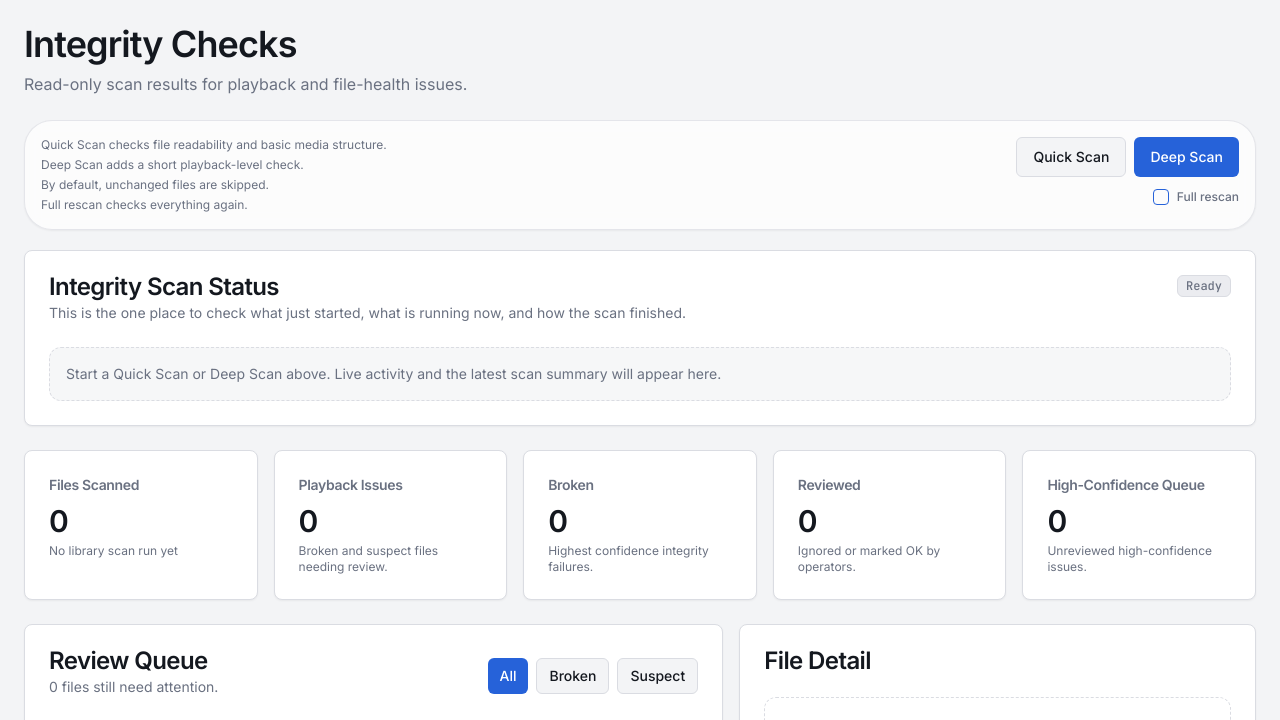
IntegrityPage › shows a visible error when the scan fails
Click the button "Quick Scan". click: (1071, 157)
box: [1016,137,1126,177]
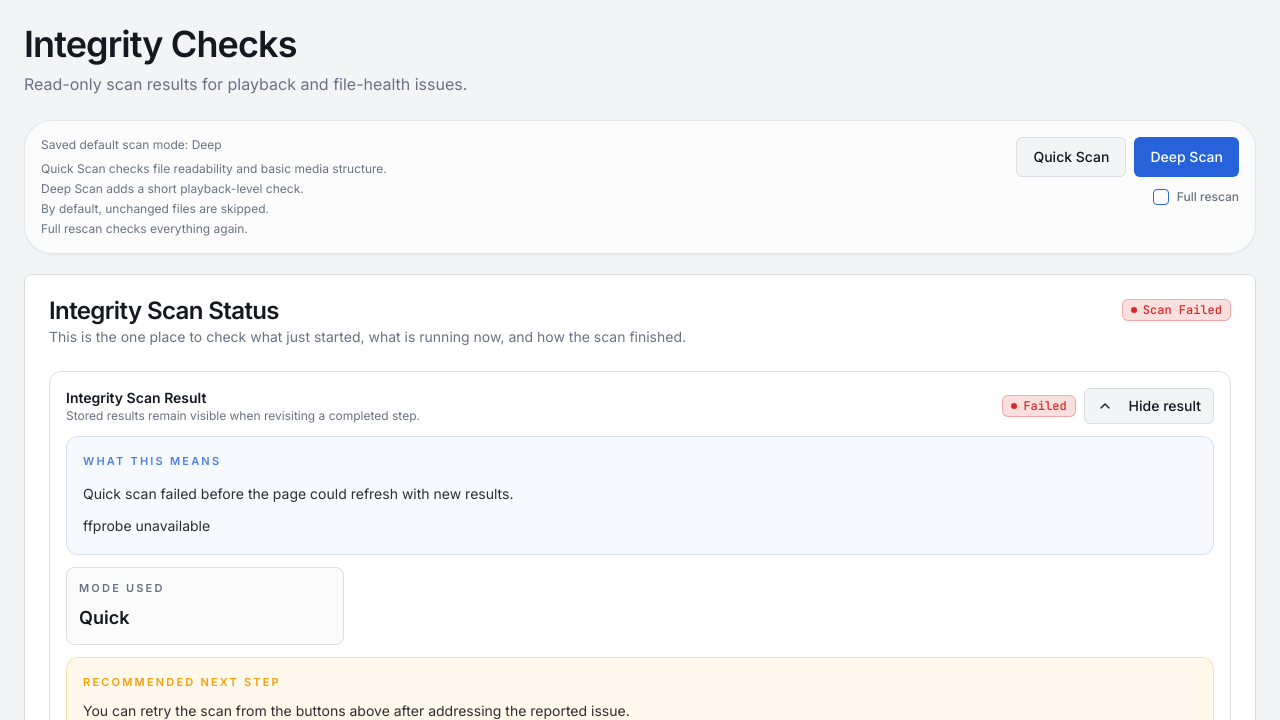
Now the text "Scan Failed" is shown, box [1122,299,1231,321]
Now the text "Quick scan failed before the page could refresh with new results." is shown, box [83,484,513,502]
Now the text "ffprobe unavailable" is shown, box [83,516,210,534]
